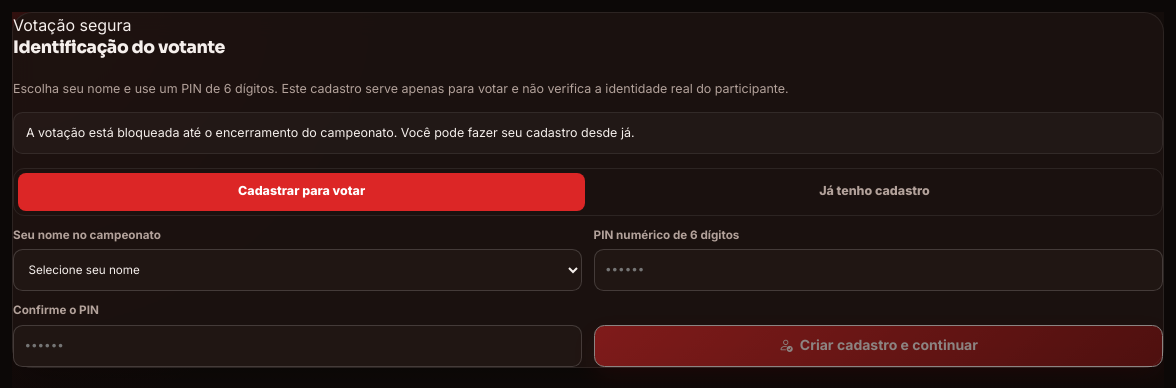
Test: fluxo público de votação por PIN › recupera um cadastro existente usando nome e PIN
Click the button "Já tenho cadastro".
click(874, 192)  # box left=591, top=172, right=1158, bottom=210
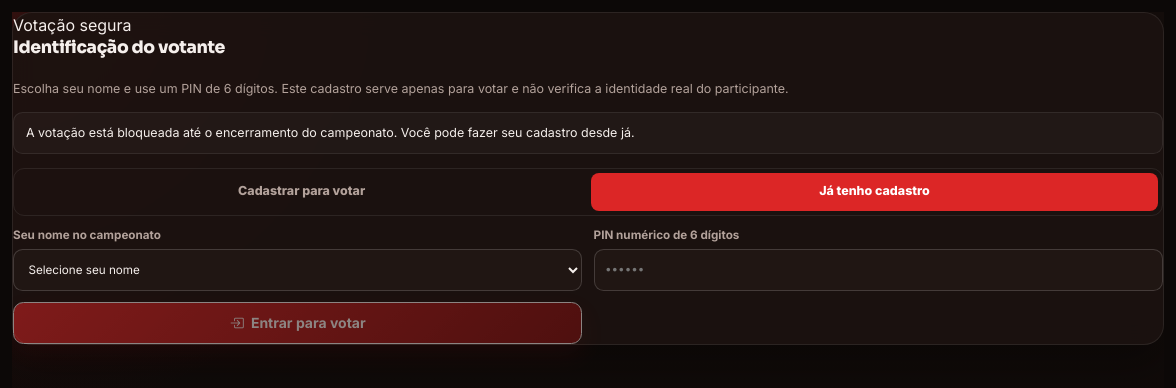
Select "Ana Jogadora · Ana" in the dropdown labelled "Seu nome no campeonato" at (298,270), box left=13, top=249, right=582, bottom=291
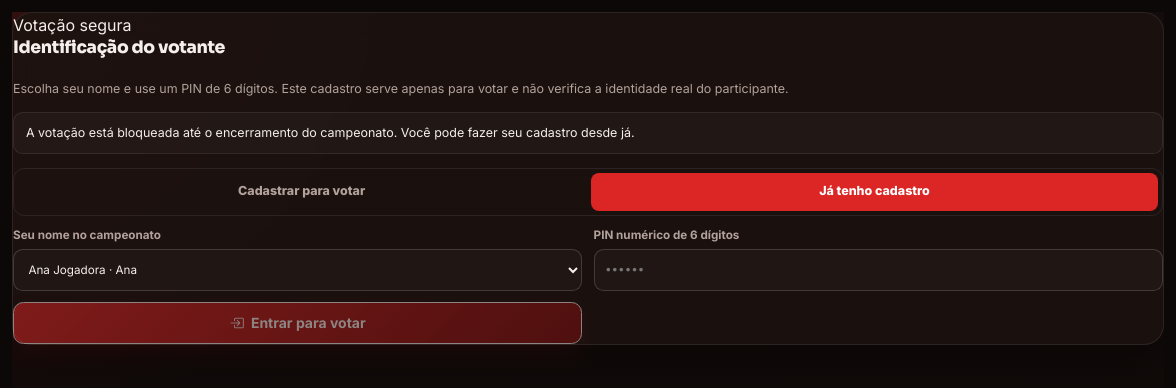
Type "123456" into the password field labelled "PIN numérico de 6 dígitos".
click(878, 270); type("123456")  # box left=594, top=249, right=1163, bottom=291
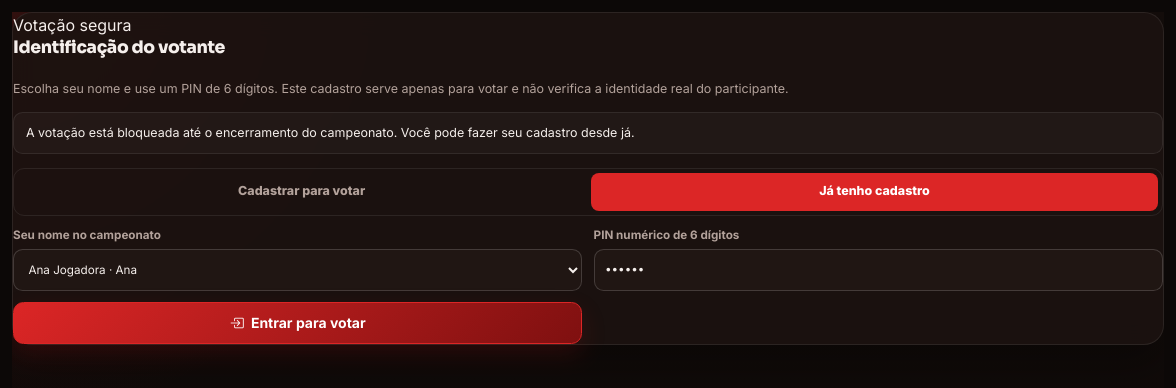
Click the button with class "btn-red".
click(298, 323)  # box left=13, top=302, right=582, bottom=344
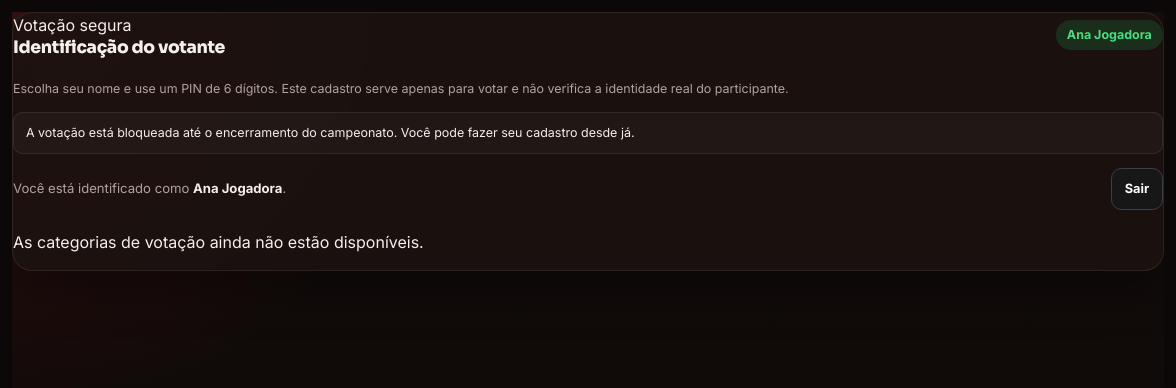
Expected: the text "Ana Jogadora" is shown, left=1056, top=20, right=1163, bottom=50
